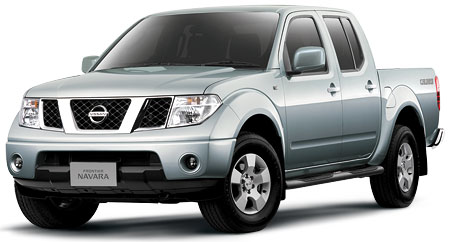pickup: (4, 4, 445, 233)
